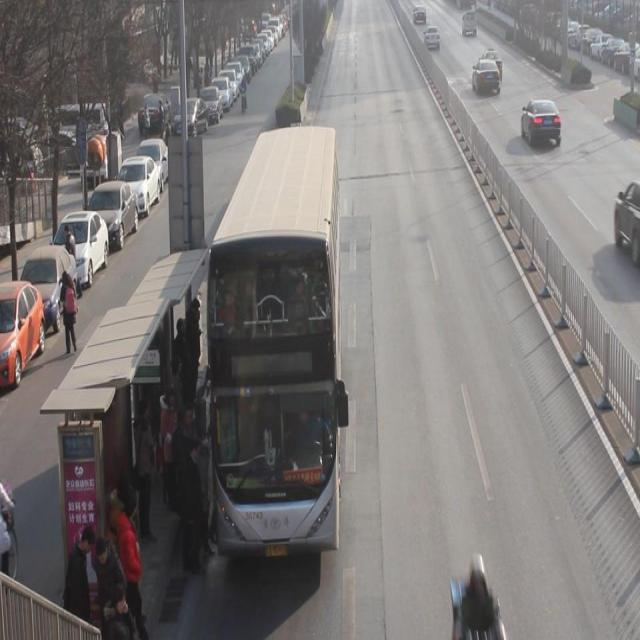car: (521, 98, 563, 150), (472, 58, 502, 98), (481, 46, 504, 82), (423, 25, 442, 54), (412, 1, 427, 26)
truck: (461, 10, 478, 39)
van: (207, 132, 340, 551)
